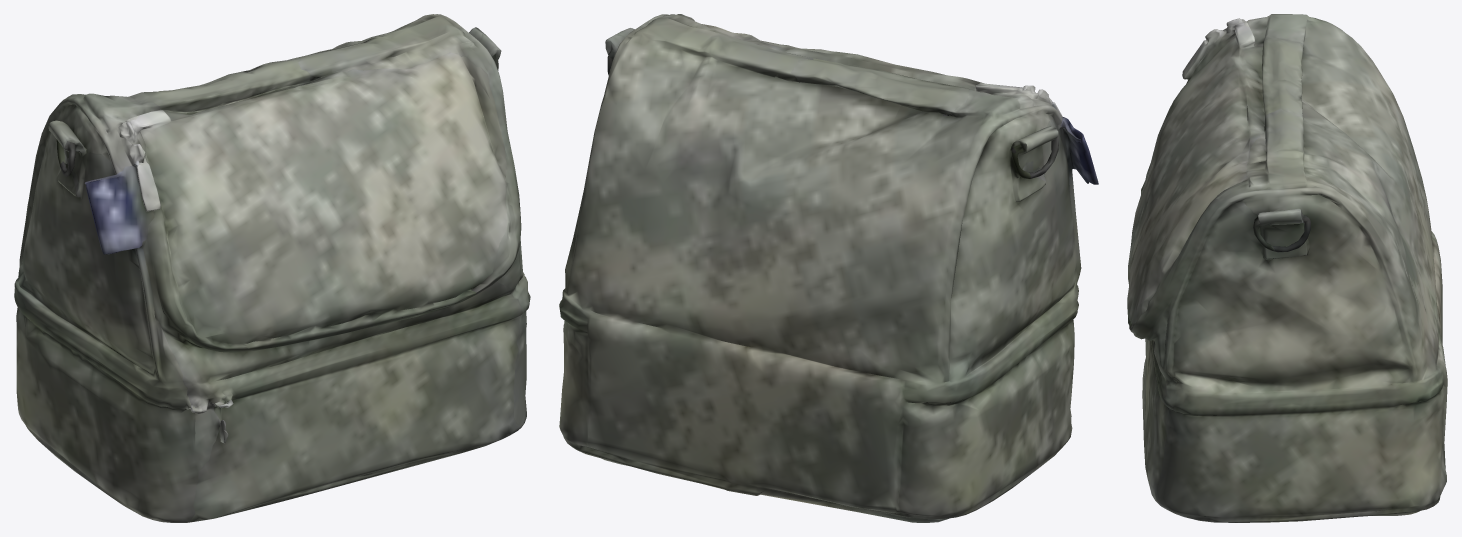
File: Digital_Camo_Double_Decker_Lunch_Bag-high.glb
3 renders of one model, left to right at view 1: azimuth 30°, elevation 25°; view 2: azimuth 150°, elevation 25°; view 3: azimuth 270°, elevation 25°, orthographic. The views are drawn at different scales.
Visible parts, largest first — view 1: Digital_Camo_Double_Decker_Lunch_Bag; view 2: Digital_Camo_Double_Decker_Lunch_Bag; view 3: Digital_Camo_Double_Decker_Lunch_Bag.
Boxes of the visible parts, left/top/right/bottom form: Digital_Camo_Double_Decker_Lunch_Bag: left=14, top=14, right=530, bottom=522; Digital_Camo_Double_Decker_Lunch_Bag: left=559, top=14, right=1098, bottom=522; Digital_Camo_Double_Decker_Lunch_Bag: left=1127, top=14, right=1447, bottom=522.
Bounding box in the file's own units: 0.2607 × 0.2187 × 0.1817.
Materials: 1 (1 with a texture image).
